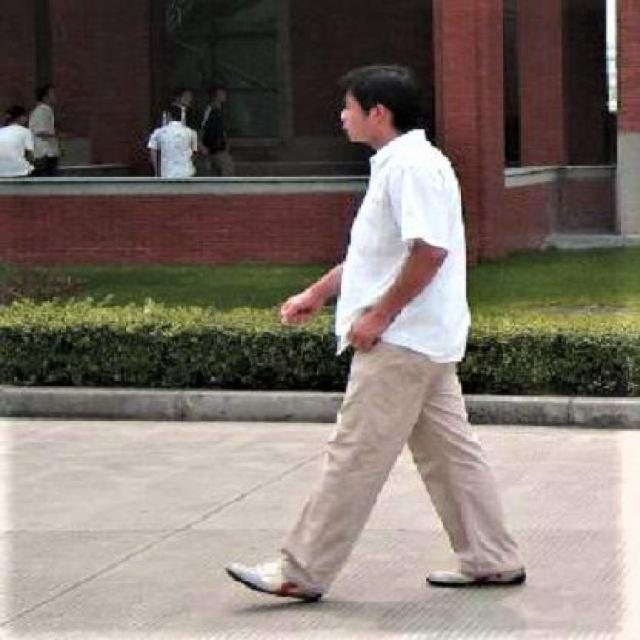obstacle: (203, 53, 534, 599), (142, 101, 206, 188), (23, 78, 69, 179), (0, 108, 42, 184)
